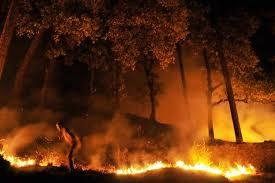fire: (108, 150, 259, 177)
